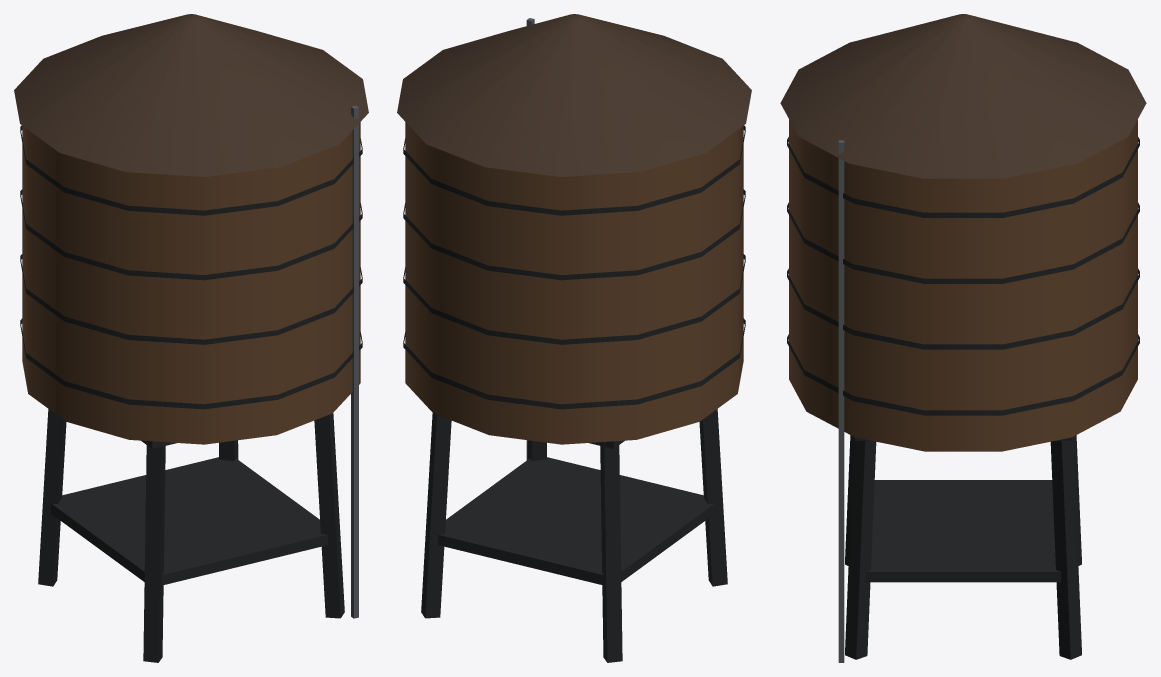
The model's file is chateau_eau.glb.
3 renders of one model, left to right at view 1: azimuth 30°, elevation 25°; view 2: azimuth 150°, elevation 25°; view 3: azimuth 270°, elevation 25°, orthographic. The views are drawn at different scales.
Parts seen in each view (by area): view 1: chateau_eau; view 2: chateau_eau; view 3: chateau_eau.
Part boxes in pixels (x1,y1,x2,y2): chateau_eau: (14,14,368,662); chateau_eau: (397,14,751,662); chateau_eau: (780,14,1146,662).
Size of the model in its own units: 4.91 by 9.01 by 5.04.
